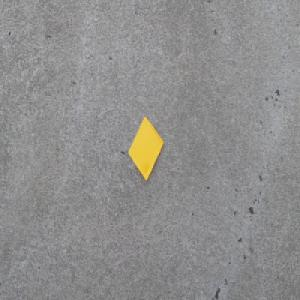PlasticPart: (127, 115, 164, 182)
